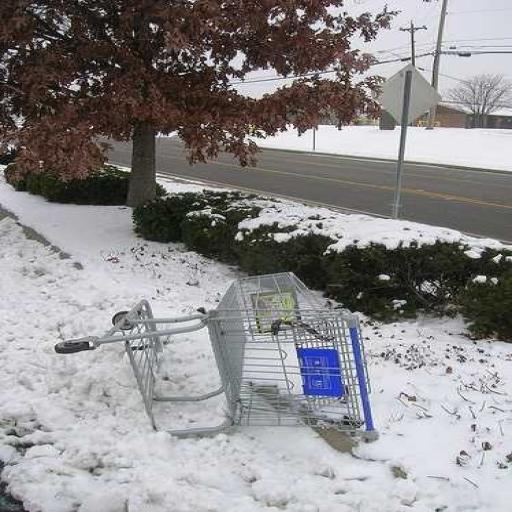shopping_cart: (51, 266, 382, 446)
